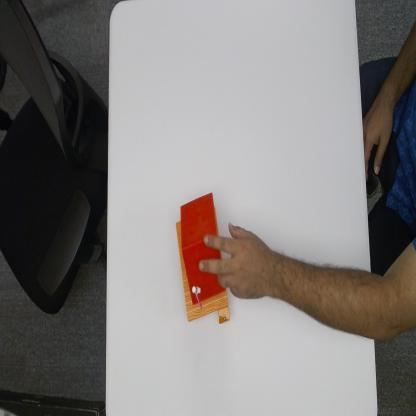Arm: (270, 248, 372, 346)
Hand: (200, 226, 269, 302)
House: (175, 193, 229, 335)
